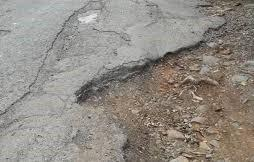pothole: (74, 0, 252, 162), (72, 13, 73, 14)
